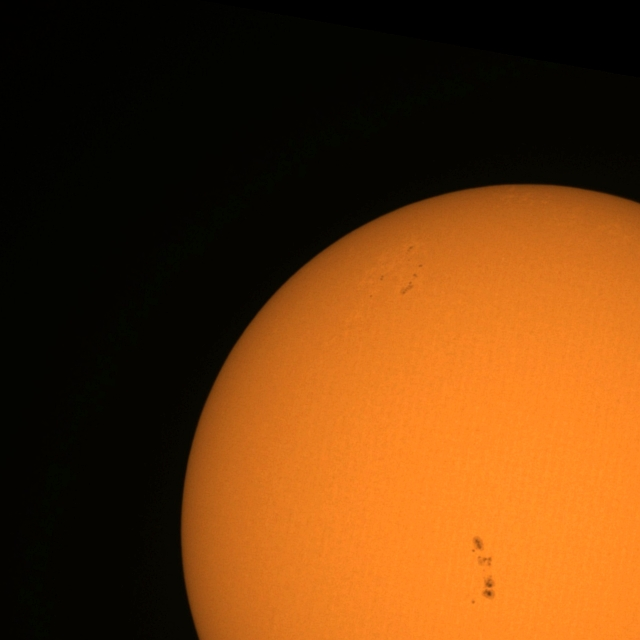sunspot: (470, 535, 494, 569), (401, 268, 420, 295), (481, 574, 497, 600), (380, 274, 385, 282), (470, 600, 476, 606), (408, 245, 414, 251), (369, 293, 374, 299)
